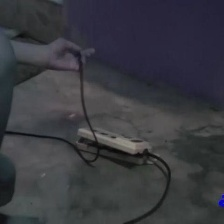three_eye_plug: (72, 122, 163, 169)
